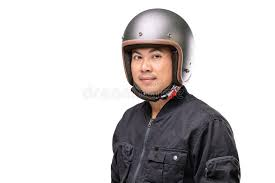com_capacete: (115, 4, 199, 109)
